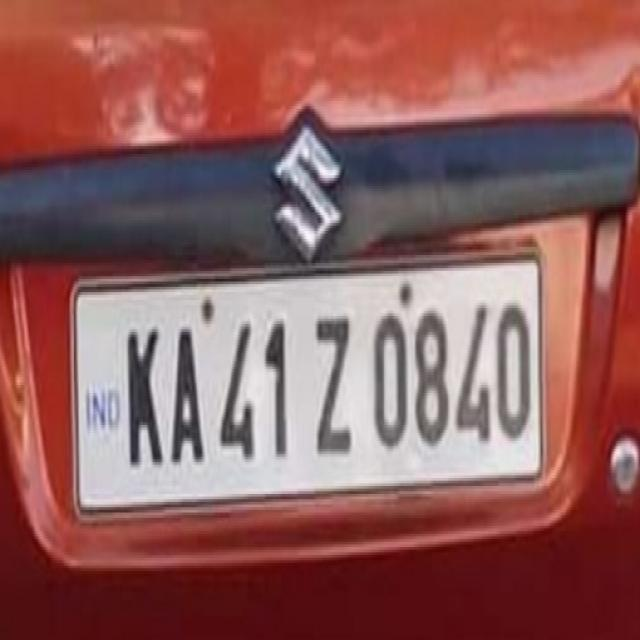0: (496, 278, 537, 449), (370, 296, 411, 454)
1: (258, 314, 292, 466)
4: (216, 300, 262, 474), (452, 302, 494, 468)
8: (410, 296, 452, 451)
A: (168, 316, 208, 478)
K: (120, 308, 166, 470)
Z: (306, 299, 359, 467)
